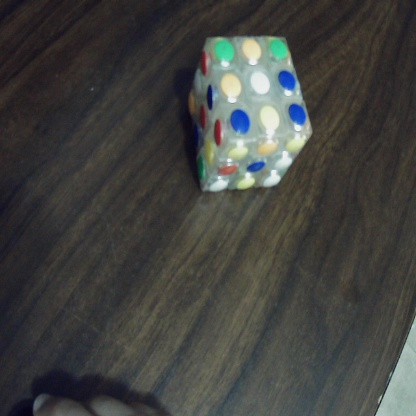Rubix Cube: (184, 37, 314, 194)
